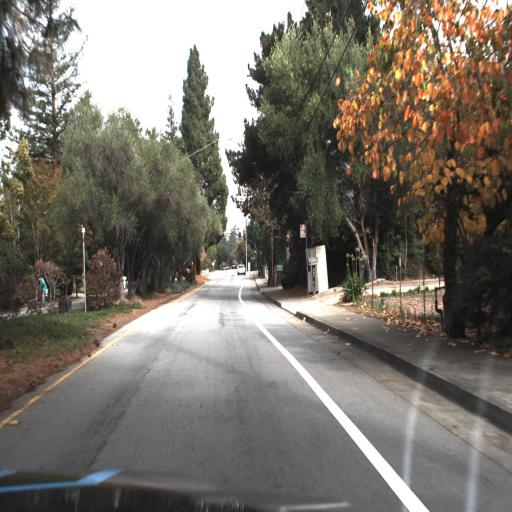car: (234, 259, 246, 278), (234, 262, 244, 277)
